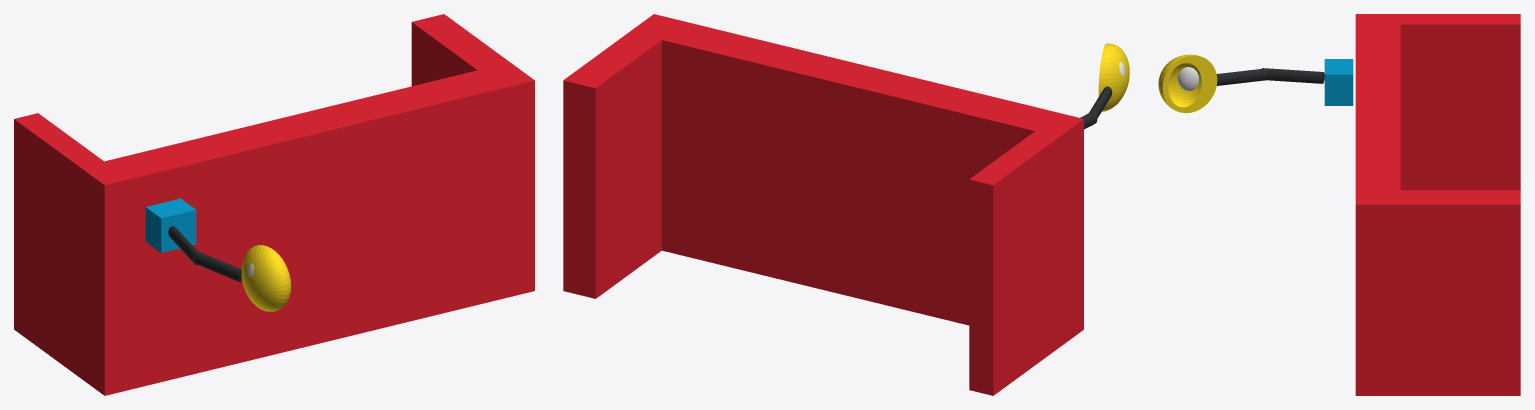
Rendered from tinker.obj.
3 renders of one model, left to right at view 1: azimuth 30°, elevation 25°; view 2: azimuth 150°, elevation 25°; view 3: azimuth 270°, elevation 25°, orthographic. The views are drawn at different scales.
Parts seen in each view (by area): view 1: group_0_15277357, group_0_16768282, group_0_40919, group_0_2829873; view 2: group_0_15277357, group_0_16768282, group_0_2829873; view 3: group_0_15277357, group_0_16768282, group_0_40919, group_0_2829873, group_0_16448250.
Boxes of the visible parts, box(x1,y1,x2,y2) form: group_0_15277357: box(14, 14, 534, 395); group_0_16768282: box(241, 245, 291, 311); group_0_40919: box(145, 198, 196, 252); group_0_2829873: box(168, 226, 241, 282); group_0_15277357: box(563, 14, 1083, 395); group_0_16768282: box(1098, 43, 1129, 111); group_0_2829873: box(1080, 86, 1112, 129); group_0_15277357: box(1355, 14, 1520, 395); group_0_16768282: box(1158, 54, 1217, 113); group_0_40919: box(1324, 59, 1353, 105); group_0_2829873: box(1216, 68, 1324, 85); group_0_16448250: box(1178, 67, 1198, 91).
Size of the model in its own units: 143 by 66.83 by 115.
